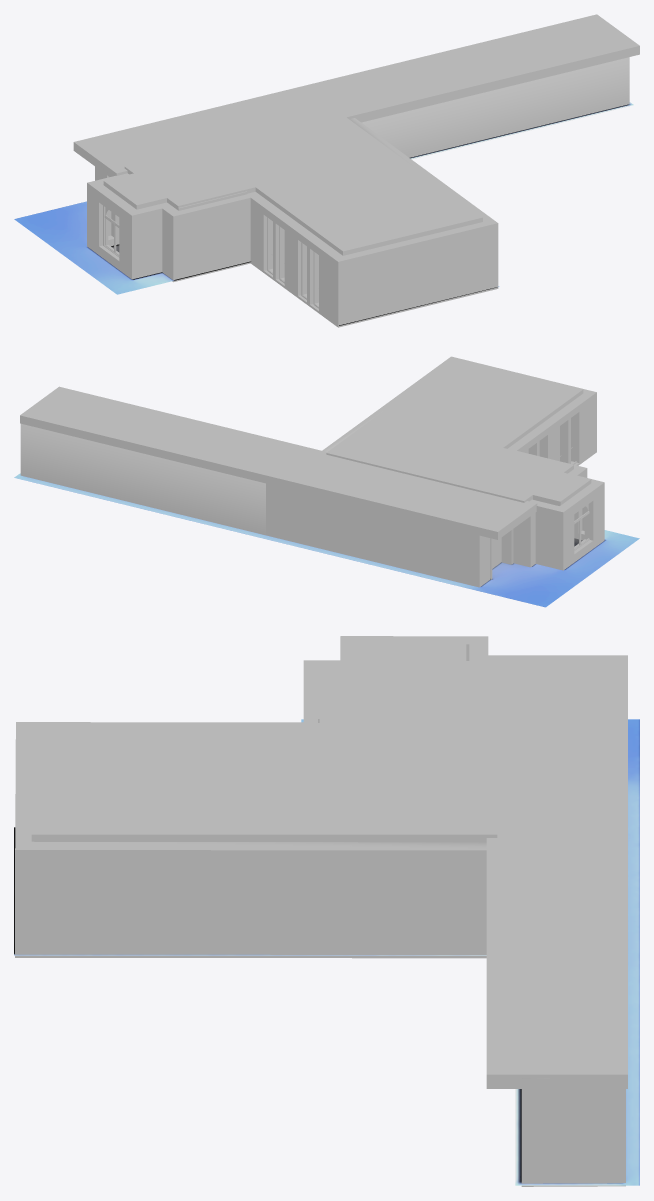
File: art_gallery_only_building_add_placeholder_wall45-rename.glb
3 views of the same model, one above another, from view 1: azimuth 30°, elevation 25°; view 2: azimuth 150°, elevation 25°; view 3: azimuth 270°, elevation 25° (orthographic). The views are drawn at different scales.
Parts seen in each view (by area): view 1: Plane, Wall, Floor, Openings; view 2: Plane, Wall, Floor, Openings; view 3: Plane, Wall, Floor.
Part boxes in pixels (x1,y1,x2,y2): Plane: (73,14,639,255); Wall: (87,57,629,327); Floor: (14,102,633,325); Openings: (103,174,318,308); Plane: (20,358,591,539); Wall: (20,356,604,587); Floor: (14,473,639,607); Openings: (490,461,589,579); Plane: (31,636,627,1088); Wall: (15,636,625,1186); Floor: (14,719,639,1185).
Size of what is drawn, in the model's own units: 27.79 by 3.2 by 15.77.
7 materials, 1 textured.
